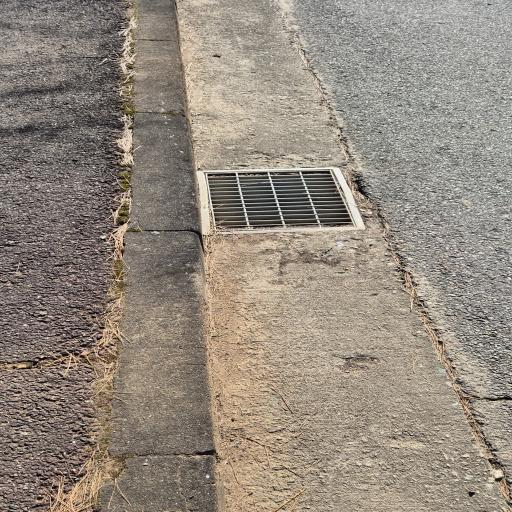drain: (203, 168, 363, 232)
